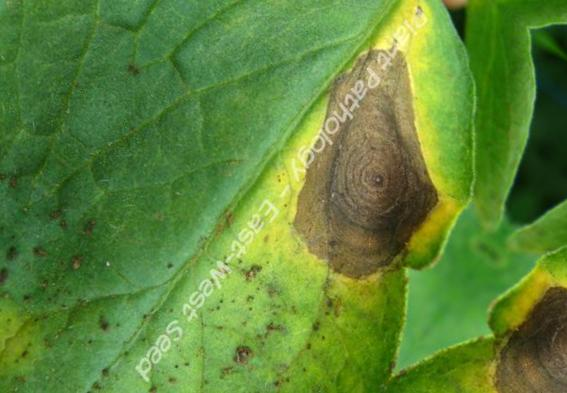Tomato Early blight leaf: (68, 0, 567, 393)
